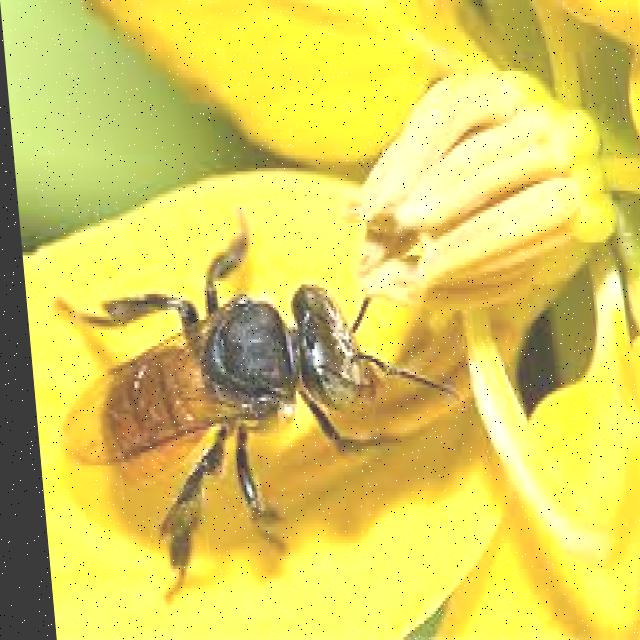Meliponula: (58, 187, 400, 535)
